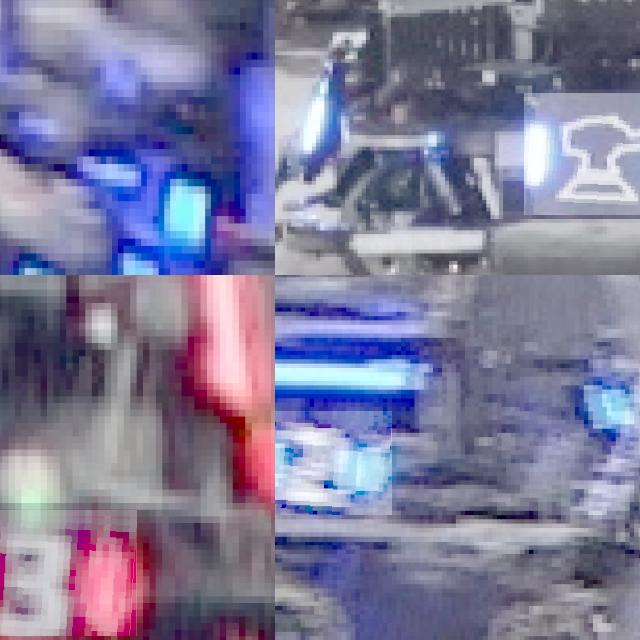B2: (275, 411, 391, 515)
Bs: (523, 93, 640, 215)
R3: (0, 509, 136, 636)
